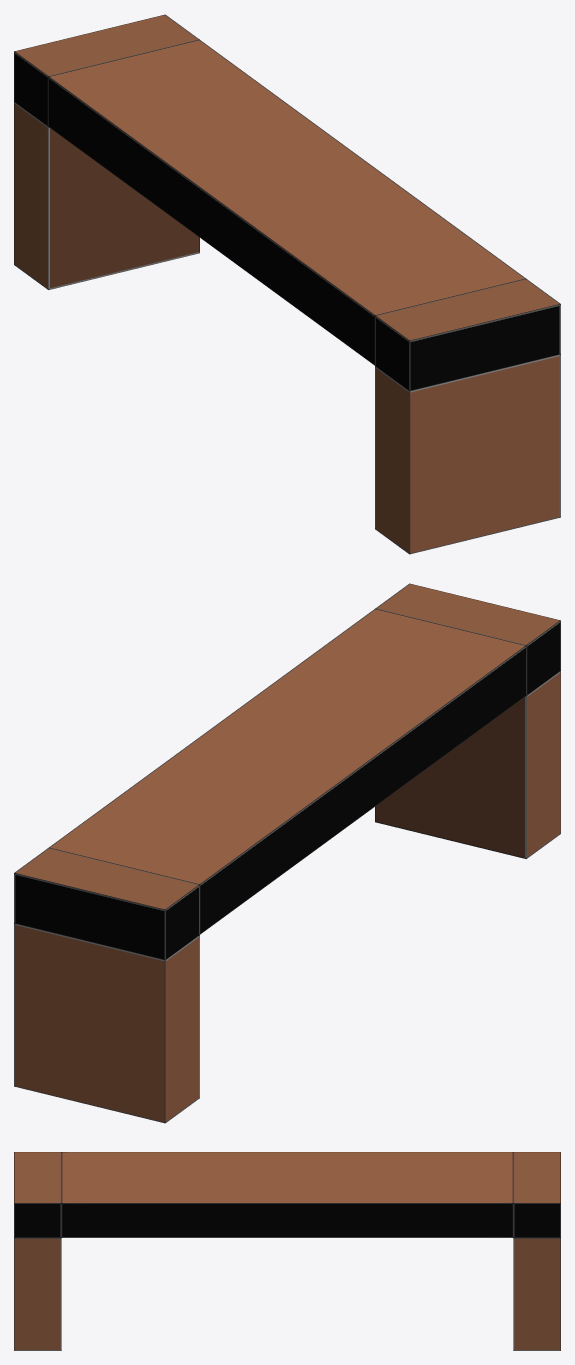
Rendered from bench.fbx.
3 renders of one model, top to bottom at view 1: azimuth 30°, elevation 25°; view 2: azimuth 150°, elevation 25°; view 3: azimuth 270°, elevation 25°, orthographic. The views are drawn at different scales.
Parts seen in each view (by area): view 1: Cube; view 2: Cube; view 3: Cube.
Part boxes in pixels (x1,y1,x2,y2): Cube: [14, 14, 560, 554]; Cube: [14, 583, 560, 1123]; Cube: [14, 1152, 560, 1350].
Size of the model in its own units: 200 by 269 by 905.
Materials: 1 (1 with a texture image).
